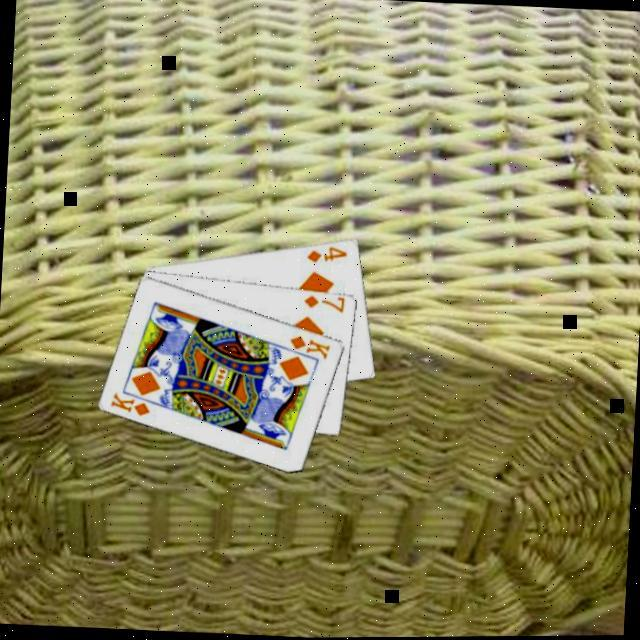4D: (303, 241, 350, 266)
7D: (300, 291, 347, 314)
KD: (285, 331, 334, 361), (107, 388, 154, 418)
